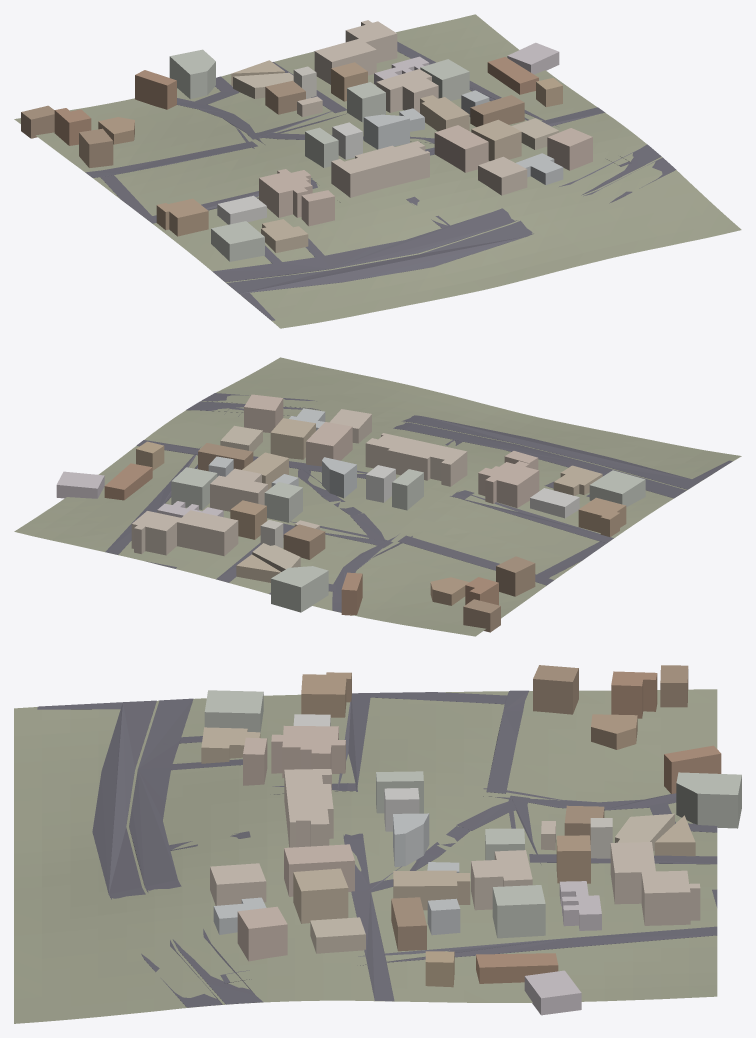
File: chunk_6_2.glb
The picture shows the model from 3 angles, top to bottom: view 1: azimuth 30°, elevation 25°; view 2: azimuth 150°, elevation 25°; view 3: azimuth 270°, elevation 25°; orthographic projection. The views are drawn at different scales.
Visible parts, largest first — view 1: geometry_40, geometry_46, geometry_50, geometry_0, geometry_21, geometry_6, geometry_14, geometry_36, geometry_27, geometry_1, geometry_19, geometry_18 (+32 smaller); view 2: geometry_40, geometry_21, geometry_0, geometry_50, geometry_46, geometry_6, geometry_36, geometry_27, geometry_41, geometry_14, geometry_1, geometry_19 (+32 smaller); view 3: geometry_40, geometry_46, geometry_50, geometry_21, geometry_41, geometry_0, geometry_36, geometry_6, geometry_48, geometry_13, geometry_26, geometry_27 (+37 smaller).
Boxes of the visible parts, x1,y1,x2,y2 form: geometry_40: (14, 14, 741, 328); geometry_46: (212, 144, 661, 282); geometry_50: (226, 157, 676, 293); geometry_0: (331, 141, 429, 197); geometry_21: (314, 20, 397, 84); geometry_6: (259, 169, 312, 217); geometry_14: (434, 125, 488, 172); geometry_36: (169, 49, 215, 99); geometry_27: (376, 69, 438, 112); geometry_1: (211, 221, 264, 261); geometry_19: (156, 198, 208, 236); geometry_18: (547, 128, 592, 170); geometry_40: (14, 357, 741, 636); geometry_21: (131, 510, 238, 556); geometry_0: (365, 433, 467, 486); geometry_50: (202, 393, 700, 489); geometry_46: (186, 401, 686, 498); geometry_6: (478, 461, 539, 508); geometry_36: (271, 566, 328, 612); geometry_27: (210, 468, 267, 511); geometry_41: (136, 440, 613, 543); geometry_14: (306, 422, 352, 466); geometry_1: (589, 470, 645, 506); geometry_19: (578, 497, 626, 536); geometry_40: (14, 689, 717, 1023); geometry_46: (129, 698, 263, 1004); geometry_50: (92, 700, 222, 1007); geometry_21: (610, 842, 700, 925); geometry_41: (337, 693, 394, 1001); geometry_0: (284, 769, 333, 847); geometry_36: (676, 772, 741, 828); geometry_6: (271, 725, 345, 778); geometry_48: (220, 926, 717, 983); geometry_13: (293, 868, 348, 923); geometry_26: (492, 885, 545, 938); geometry_27: (471, 850, 532, 910).
Bounding box in the file's own units: 262 × 27.87 × 259.
